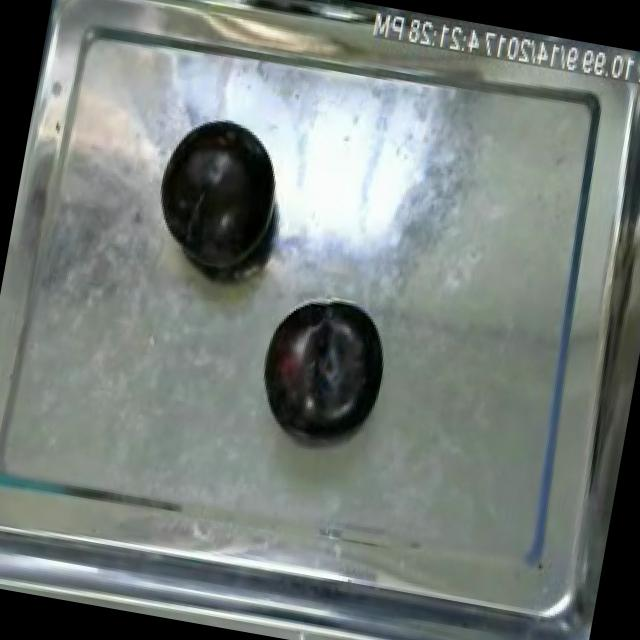Fruit: (144, 110, 292, 283), (250, 289, 394, 447)
